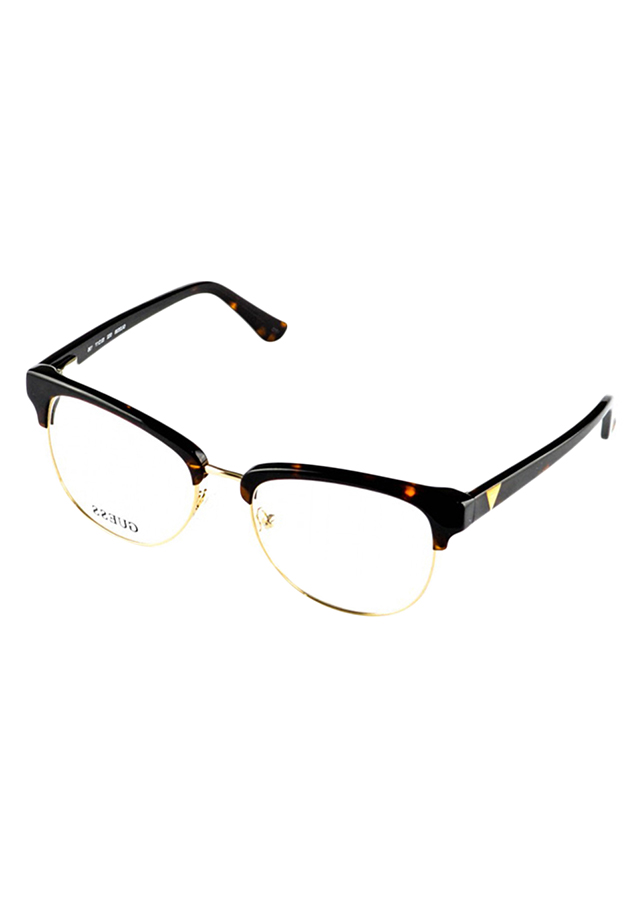Guess: (86, 500, 145, 540)
